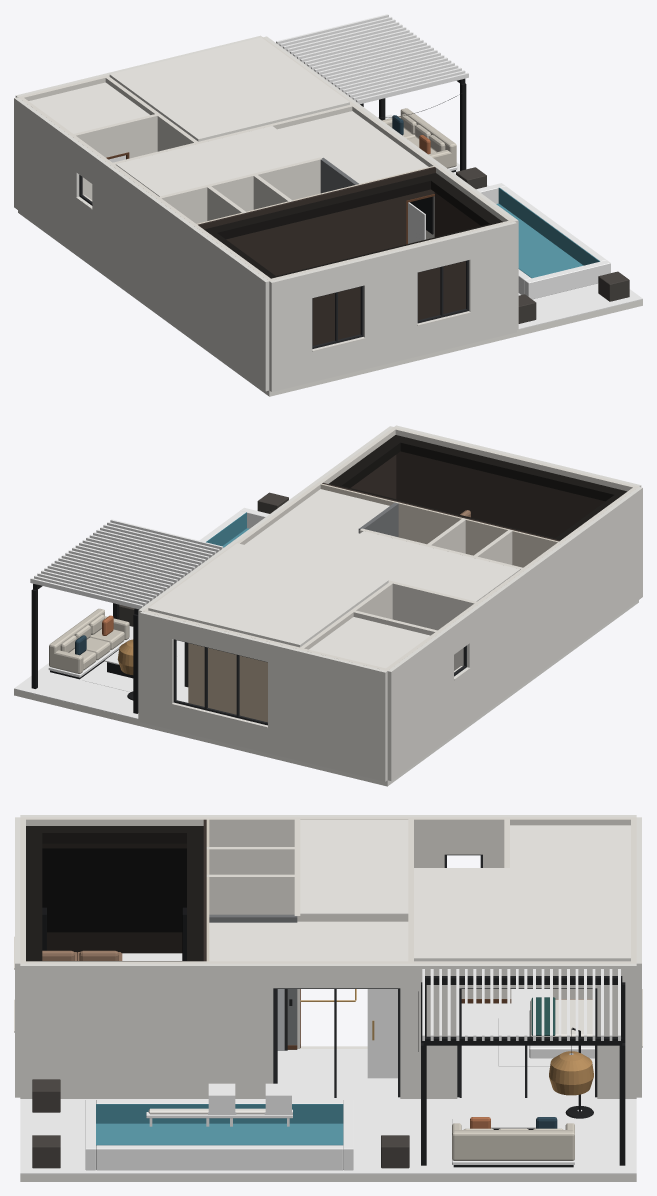
The picture shows the model from 3 angles, top to bottom: view 1: azimuth 30°, elevation 25°; view 2: azimuth 150°, elevation 25°; view 3: azimuth 270°, elevation 25°; orthographic projection. The views are drawn at different scales.
Visible parts, largest first — view 1: bake_sf; view 2: bake_sf; view 3: bake_sf.
Part boxes in pixels (x1,y1,x2,y2): bake_sf: (14,14,642,396); bake_sf: (14,425,642,786); bake_sf: (14,815,642,1181).
Size of the model in its own units: 11.3 by 3.37 by 13.29.
